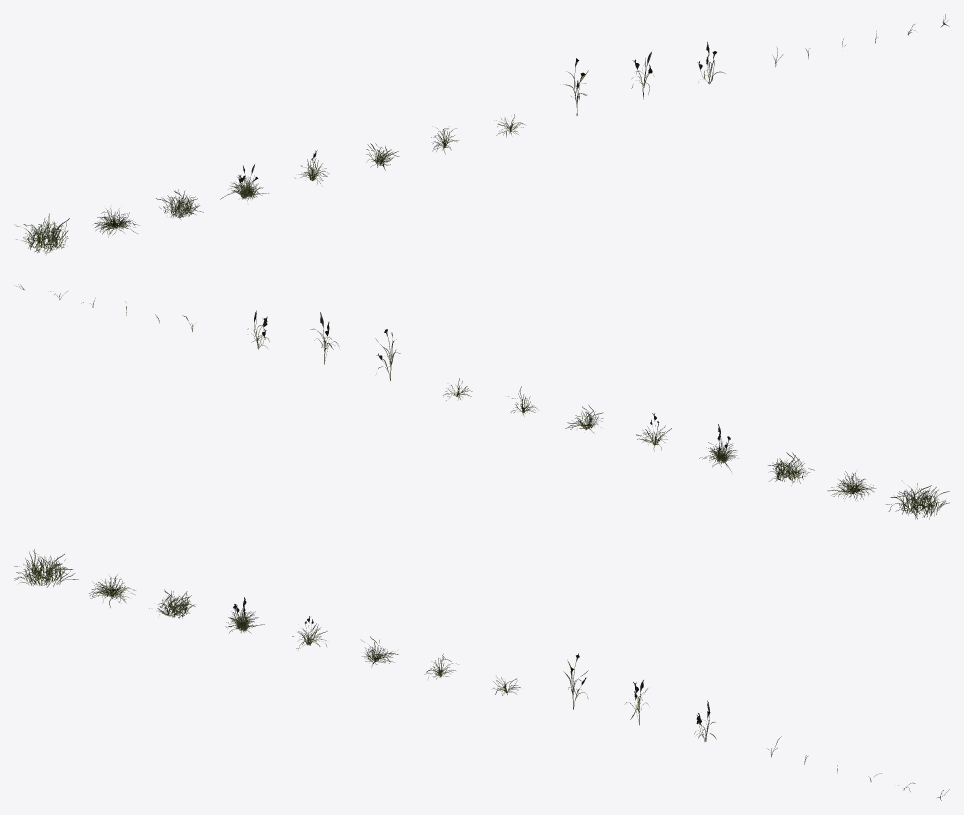
Rendered from grass_medium_01_leaf.glb.
3 views of the same model, one above another, from view 1: azimuth 30°, elevation 25°; view 2: azimuth 150°, elevation 25°; view 3: azimuth 330°, elevation 25° (orthographic).
Visible parts, largest first — view 1: grass_medium_01_large_a_LOD0, grass_medium_01_large_c_LOD0, grass_medium_01_large_b_LOD0; view 2: grass_medium_01_large_a_LOD0, grass_medium_01_large_c_LOD0, grass_medium_01_large_b_LOD0; view 3: grass_medium_01_large_a_LOD0, grass_medium_01_large_c_LOD0.
Part boxes in pixels (x1,y1,x2,y2): grass_medium_01_large_a_LOD0: [14, 213, 69, 254]; grass_medium_01_large_c_LOD0: [156, 189, 203, 220]; grass_medium_01_large_b_LOD0: [94, 208, 139, 237]; grass_medium_01_large_a_LOD0: [886, 483, 949, 519]; grass_medium_01_large_c_LOD0: [768, 452, 814, 483]; grass_medium_01_large_b_LOD0: [827, 471, 876, 500]; grass_medium_01_large_a_LOD0: [14, 549, 78, 587]; grass_medium_01_large_c_LOD0: [149, 589, 195, 618].
Bounding box in the file's own units: 5.61 × 0.3416 × 0.3163.
1 material, 1 textured.
